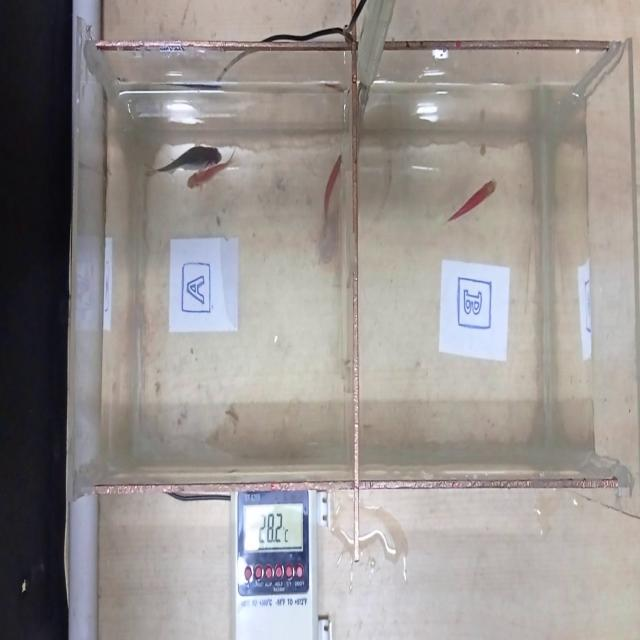Fish A1: (148, 135, 223, 189)
Fish A2: (186, 154, 238, 211)
Fish A3: (316, 143, 349, 245)
Fish B: (442, 150, 502, 232)
